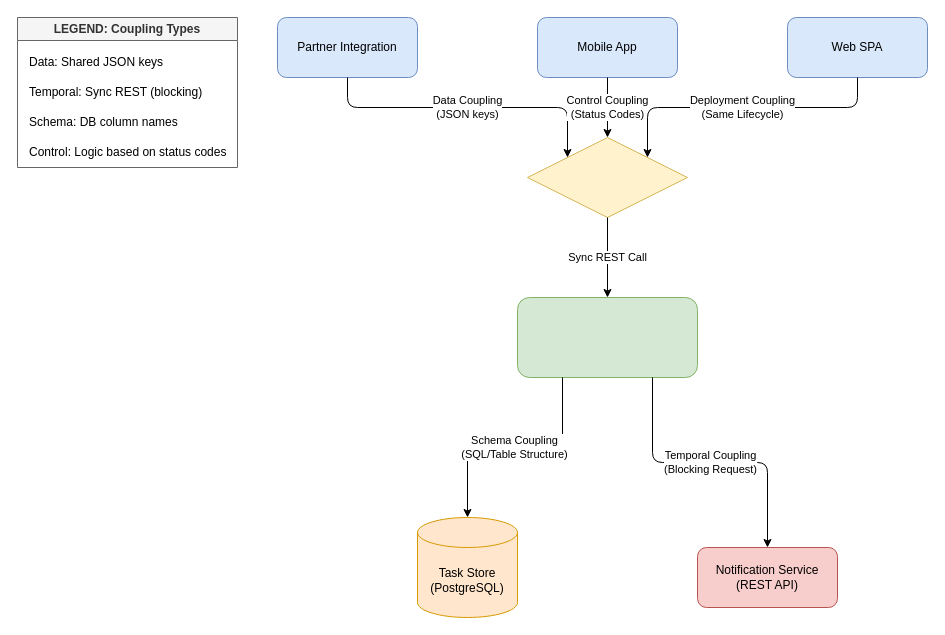
This 945x635 diagram has some shape labels left out. Each missing label, with the centre of its shape:
API Gateway (Optional): point (607, 177)
Task API Service (Spring Boot / Node): point (607, 337)
